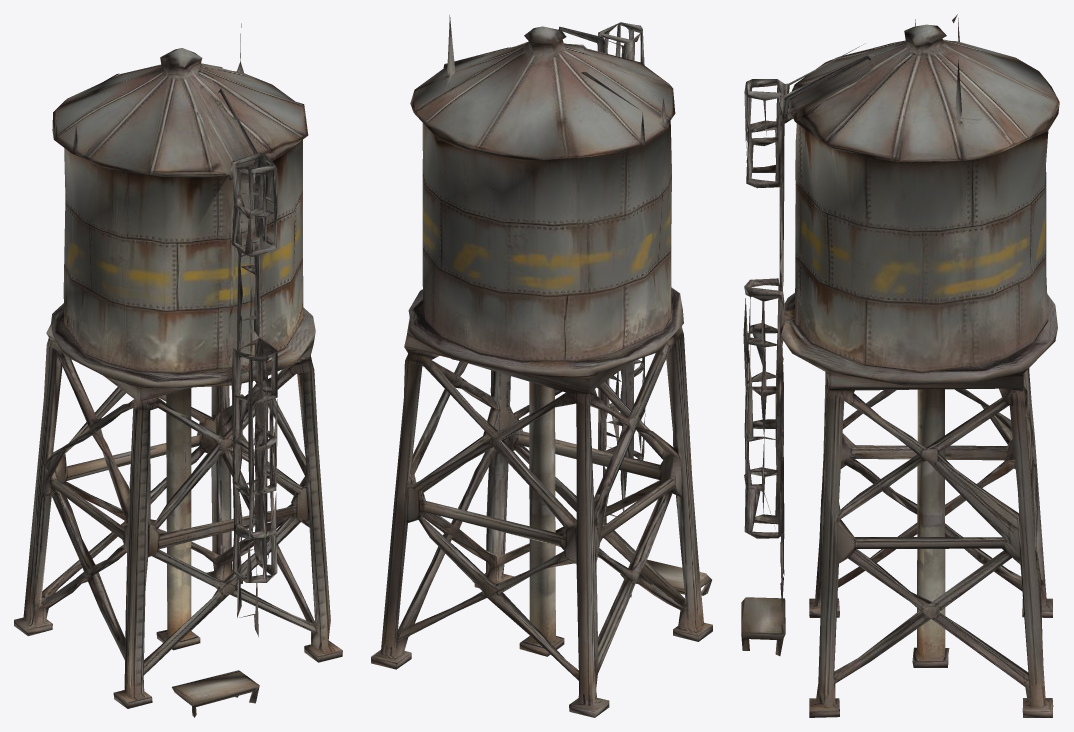
Rendered from water_tower.glb.
3 renders of one model, left to right at view 1: azimuth 30°, elevation 25°; view 2: azimuth 150°, elevation 25°; view 3: azimuth 270°, elevation 25°, orthographic. The views are drawn at different scales.
Parts seen in each view (by area): view 1: Mesh_0; view 2: Mesh_0; view 3: Mesh_0.
Boxes of the visible parts, x1,y1,x2,y2 form: Mesh_0: [14, 23, 342, 717]; Mesh_0: [371, 15, 712, 717]; Mesh_0: [741, 14, 1059, 717].
Bounding box in the file's own units: 0.7502 × 1.9 × 0.8524.
1 material, 1 textured.
